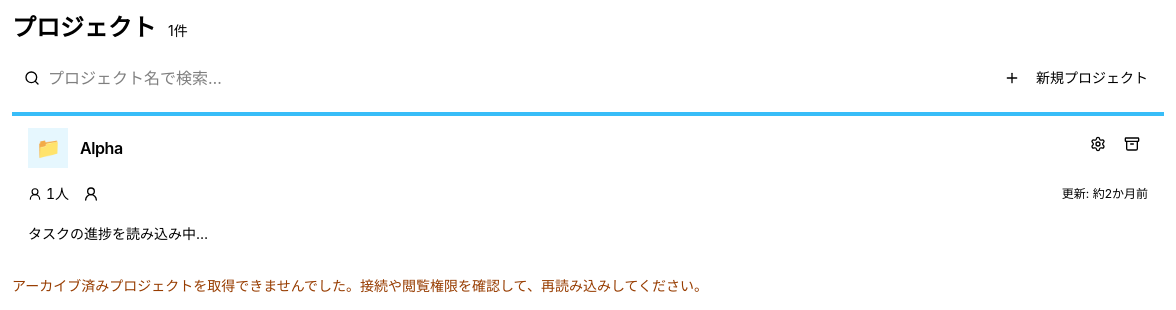
Scenario: project directory › limits a no-match claim to active projects while archives are error
Type "missing" into the field labelled "プロジェクト名で検索".
click(236, 78); type("missing")  # box [12,60,460,96]
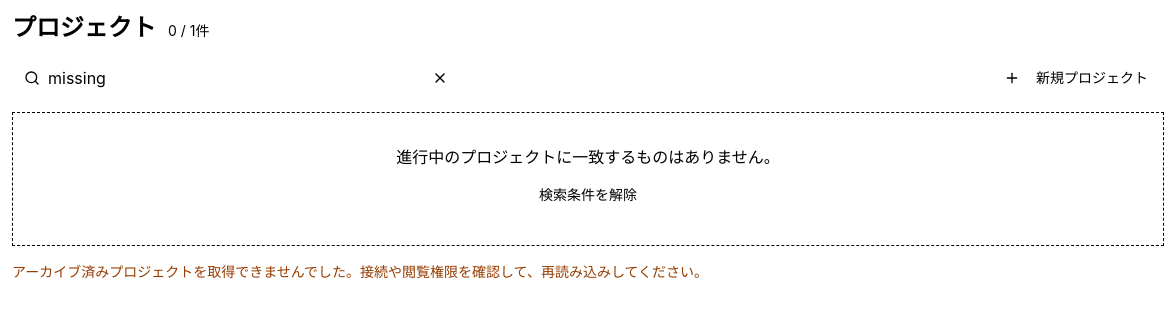
Expected: the text "アーカイブ済みプロジェクトを取得できませんでした。接続や閲覧権限を確認して、再読み込みしてください。" is shown, [12,263,708,280]
Result: the text "進行中のプロジェクトに一致するものはありません。" is shown at [396,147,780,167]
